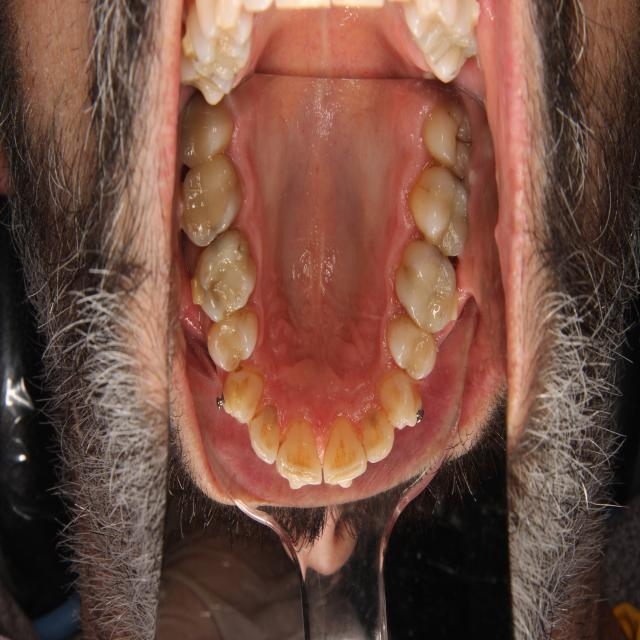tooth: (391, 230, 466, 340), (178, 150, 253, 255), (187, 230, 264, 329), (408, 164, 479, 264), (177, 84, 243, 181), (416, 94, 485, 181), (272, 406, 336, 499), (383, 301, 446, 389), (202, 299, 265, 378), (317, 410, 369, 497), (376, 367, 434, 439), (215, 359, 268, 435), (242, 396, 289, 471), (358, 397, 397, 467)
